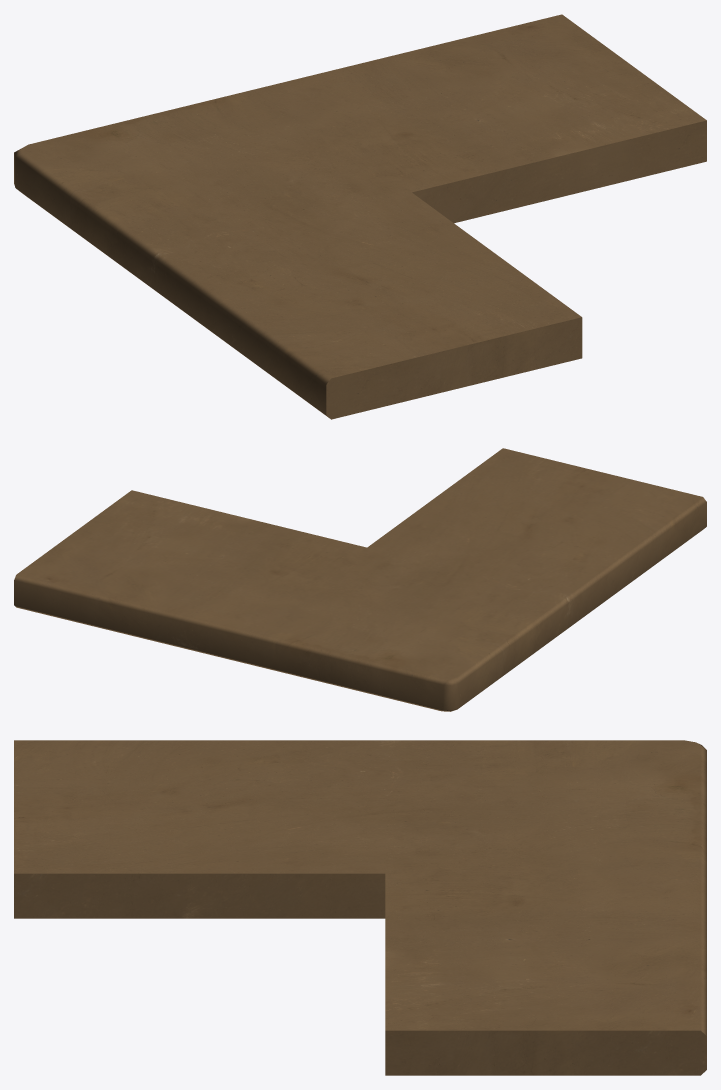
Rendered from SM_Building02GroundCanopy03R.fbx.
3 views of the same model, one above another, from view 1: azimuth 30°, elevation 25°; view 2: azimuth 150°, elevation 25°; view 3: azimuth 270°, elevation 25° (orthographic). The views are drawn at different scales.
Visible parts, largest first — view 1: SM_Building02GroundCanopy03R_LOD0; view 2: SM_Building02GroundCanopy03R_LOD0; view 3: SM_Building02GroundCanopy03R_LOD0.
Boxes of the visible parts, left/top/right/bottom form: SM_Building02GroundCanopy03R_LOD0: left=14, top=14, right=706, bottom=419; SM_Building02GroundCanopy03R_LOD0: left=14, top=448, right=706, bottom=711; SM_Building02GroundCanopy03R_LOD0: left=14, top=740, right=706, bottom=1075.
Bounding box in the file's own units: 280 × 280 × 20.
Materials: 1 (1 with a texture image).
